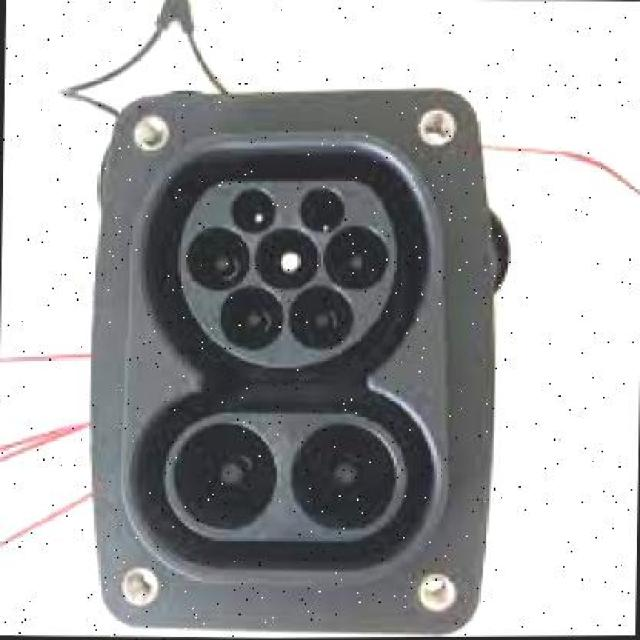CCS2: (122, 100, 464, 608)
